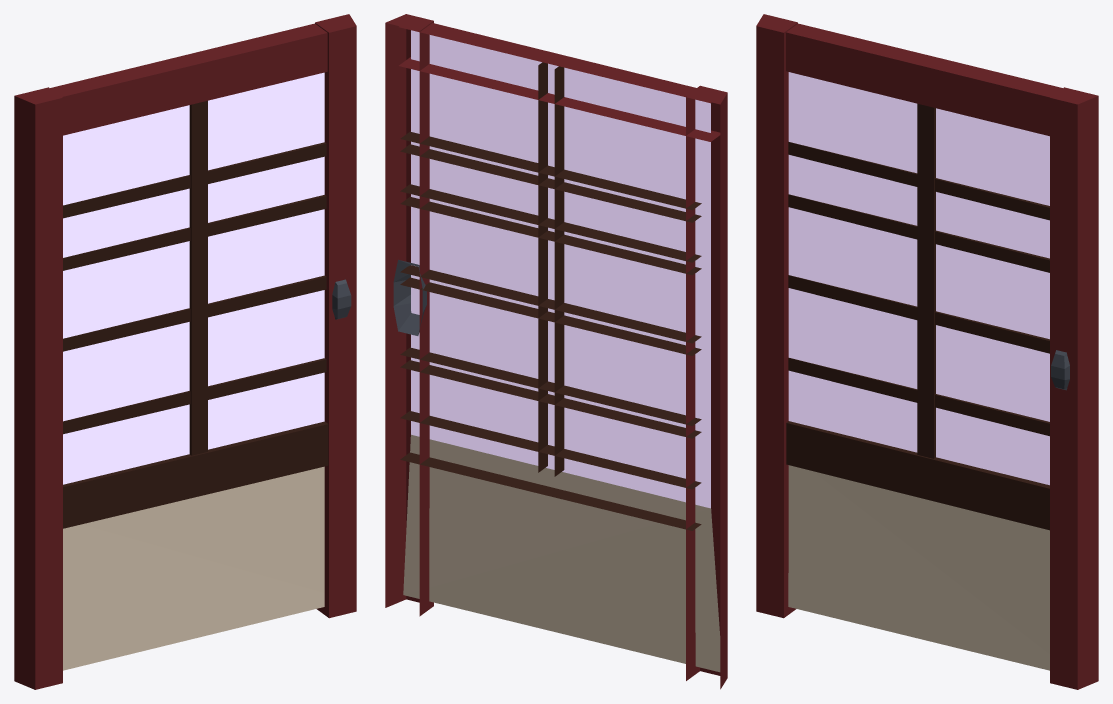
Rendered from Door_1_2  Asia.fbx.
3 renders of one model, left to right at view 1: azimuth 30°, elevation 25°; view 2: azimuth 150°, elevation 25°; view 3: azimuth 330°, elevation 25°, orthographic.
Parts seen in each view (by area): view 1: Door_1_2; view 2: Door_1_2; view 3: Door_1_2.
Part boxes in pixels (bbox=[...]): Door_1_2: bbox=[14, 14, 356, 689]; Door_1_2: bbox=[385, 14, 727, 689]; Door_1_2: bbox=[756, 14, 1098, 689].
Bounding box in the file's own units: 1.14 × 1.9 × 0.1063.
